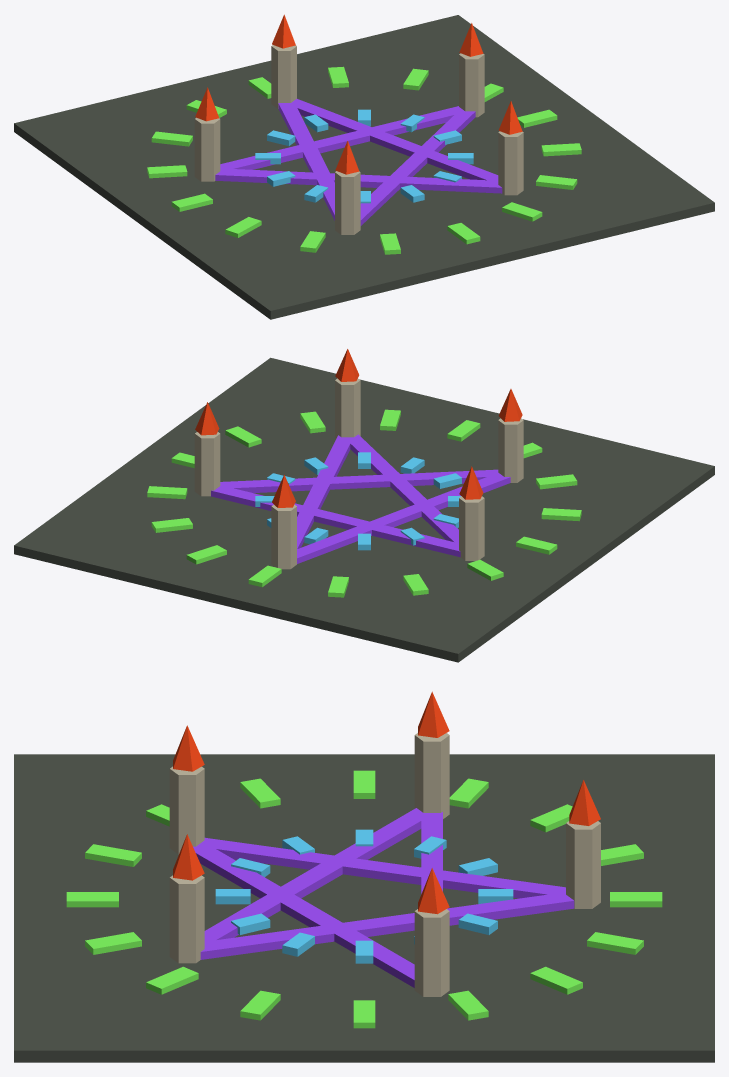
The model's file is summoning_circle.obj.
3 renders of one model, top to bottom at view 1: azimuth 30°, elevation 25°; view 2: azimuth 150°, elevation 25°; view 3: azimuth 270°, elevation 25°, orthographic. The views are drawn at different scales.
Visible parts, largest first — view 1: summoning_circle; view 2: summoning_circle; view 3: summoning_circle.
Part boxes in pixels (x1,y1,x2,y2): summoning_circle: (14, 14, 714, 319); summoning_circle: (14, 349, 714, 662); summoning_circle: (14, 691, 714, 1062).
Bounding box in the file's own units: 1.6 × 0.34 × 1.6.
